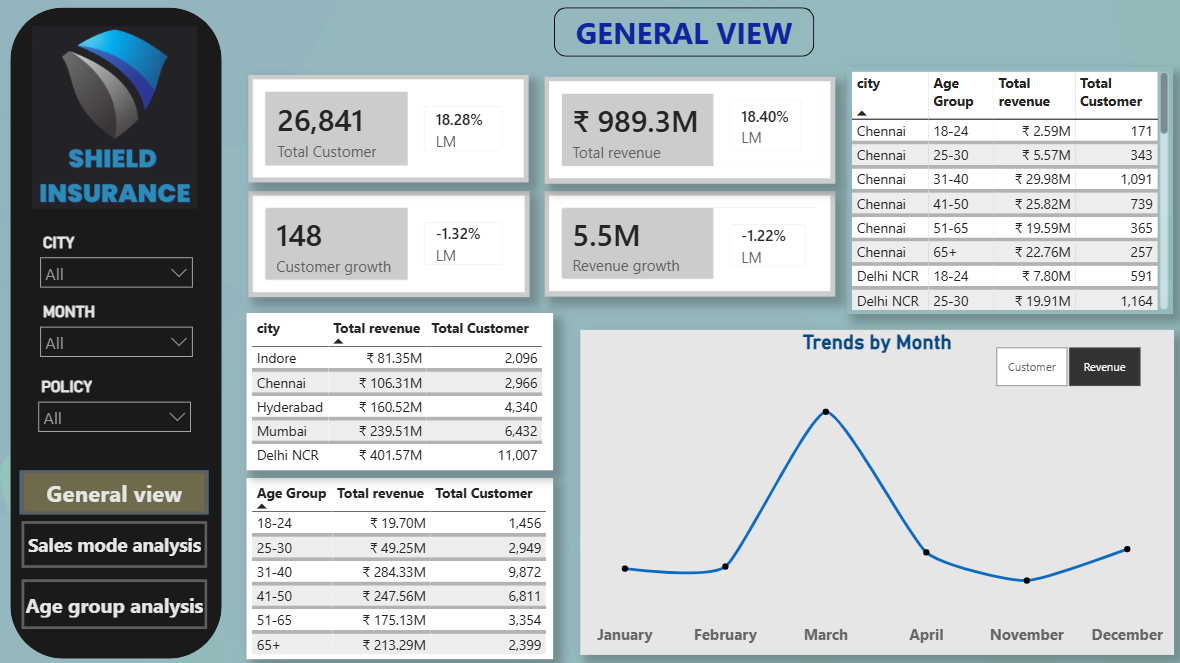

Layout of this report page (visuals, bound fields, positions):
{"tool":"powerbi","page":{"name":"General View","canvas":[1280,720],"ordinal":4},"visuals":[{"type":"tableEx","fields":{"Values":["dim_customer.Age Group","Measure.Total revenue","Measure.Total Customer"]},"box":[265.6,513.3,328.7,194.3],"z":0},{"type":"tableEx","fields":{"Values":["dim_customer.city","dim_customer.Age Group","Measure.Total revenue","Measure.Total Customer"]},"box":[908.4,74.5,349.8,263.9],"z":1000},{"type":"lineChart","title":"Trends by Month","fields":{"Category":["dim_date.date.Variation.Date Hierarchy.Month"],"Y":["Measure.Selected Metric Value"]},"box":[621.8,356.2,636.4,348.1],"z":2000},{"type":"tableEx","fields":{"Values":["dim_customer.city","Measure.Total revenue","Measure.Total Customer"]},"box":[265.6,338.4,328.7,168.4],"z":3000},{"type":"cardVisual","fields":{"Data":["Measure.Daily Revenue"]},"box":[585,207,311.3,112.9],"z":4000},{"type":"cardVisual","fields":{"Data":["Measure.Daily cust"]},"box":[267.7,207.7,300,112.3],"z":5000},{"type":"slicer","fields":{"Values":["Metric Selection.Metric"]},"box":[1042.8,367.6,204,55.1],"z":6000},{"type":"textbox","box":[593.8,9.9,278.8,52.8],"z":7000},{"type":"shape","box":[11.3,9.7,226.7,697.9],"z":8000},{"type":"image","box":[32.4,29.1,183,195.9],"z":9000},{"type":"slicer","fields":{"Values":["dim_policies.policy_id"]},"box":[32.3,401.5,183.1,73.8],"z":10000},{"type":"slicer","fields":{"Values":["dim_date.date.Variation.Date Hierarchy.Month"]},"box":[33.8,321.5,183.1,75.4],"z":11000},{"type":"slicer","fields":{"Values":["dim_customer.city"]},"box":[33.8,247.7,183.1,73.8],"z":12000},{"type":"cardVisual","fields":{"Data":["Measure.Total Customer"]},"box":[267.7,83.1,300,115.4],"z":13000},{"type":"cardVisual","fields":{"Data":["Measure.Total revenue"]},"box":[585,83.8,311.3,114.6],"z":14000},{"type":"shape","box":[22.7,506.8,202.4,47],"z":15000},{"type":"actionButton","box":[24.3,506.8,199.2,47],"z":16000},{"type":"actionButton","box":[24.3,560.3,199.2,50.2],"z":17000},{"type":"actionButton","box":[24.3,623.4,199.2,53.4],"z":18000},{"type":"shape","box":[593.8,9.9,278.8,52.8],"z":19000},{"type":"cardVisual","fields":{"Data":["Measure.MOM revenue growth"]},"box":[766.2,96.9,112.3,89.2],"z":20000},{"type":"cardVisual","fields":{"Data":["Measure.MOM customer growth"]},"box":[437.9,99.2,119.7,83.8],"z":21000},{"type":"cardVisual","fields":{"Data":["Measure.LM Revenue Growth %"]},"box":[766.3,224.1,116.3,80.4],"z":22000},{"type":"cardVisual","fields":{"Data":["Measure.LM customer Growth %"]},"box":[437.9,222.4,119.7,80.4],"z":23000}]}

Visuals, with their boxes in screenshot pixels (x1, y1, x2, y2), scaled from the page's 1280x720 canvas onto the 1180x663 screenshot:
tableEx - dim_customer.Age Group x Measure.Total revenue: detection(245, 473, 548, 652)
tableEx - dim_customer.city x dim_customer.Age Group: detection(837, 69, 1160, 312)
"Trends by Month" lineChart: detection(573, 328, 1160, 649)
tableEx - dim_customer.city x Measure.Total revenue: detection(245, 312, 548, 467)
cardVisual - Measure.Daily Revenue: detection(539, 191, 826, 295)
cardVisual - Measure.Daily cust: detection(247, 191, 523, 295)
slicer - Metric Selection.Metric: detection(961, 338, 1149, 389)
textbox: detection(547, 9, 804, 58)
shape: detection(10, 9, 219, 652)
image: detection(30, 27, 199, 207)
slicer - dim_policies.policy_id: detection(30, 370, 199, 438)
slicer - dim_date.date.Variation.Date Hierarchy.Month: detection(31, 296, 200, 365)
slicer - dim_customer.city: detection(31, 228, 200, 296)
cardVisual - Measure.Total Customer: detection(247, 77, 523, 183)
cardVisual - Measure.Total revenue: detection(539, 77, 826, 183)
shape: detection(21, 467, 208, 510)
actionButton: detection(22, 467, 206, 510)
actionButton: detection(22, 516, 206, 562)
actionButton: detection(22, 574, 206, 623)
shape: detection(547, 9, 804, 58)
cardVisual - Measure.MOM revenue growth: detection(706, 89, 810, 171)
cardVisual - Measure.MOM customer growth: detection(404, 91, 514, 169)
cardVisual - Measure.LM Revenue Growth %: detection(706, 206, 814, 280)
cardVisual - Measure.LM customer Growth %: detection(404, 205, 514, 279)
